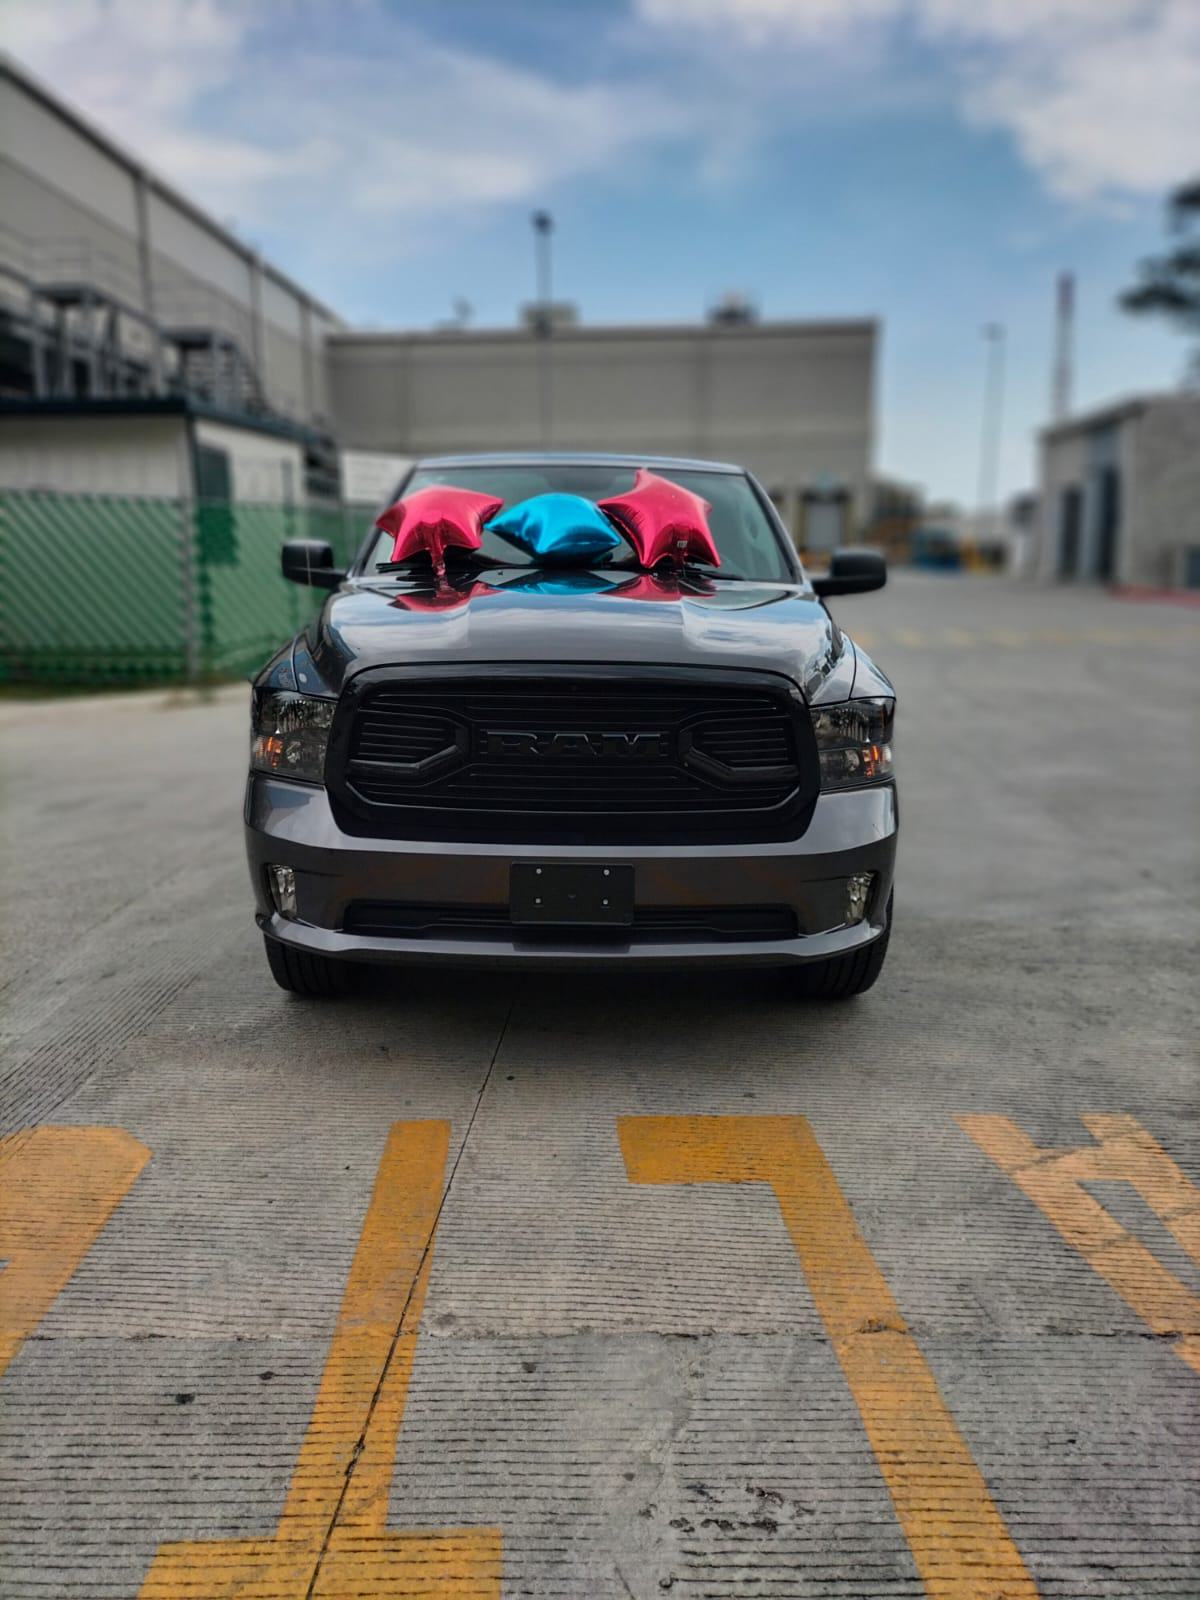Auto: (248, 455, 894, 1007)
